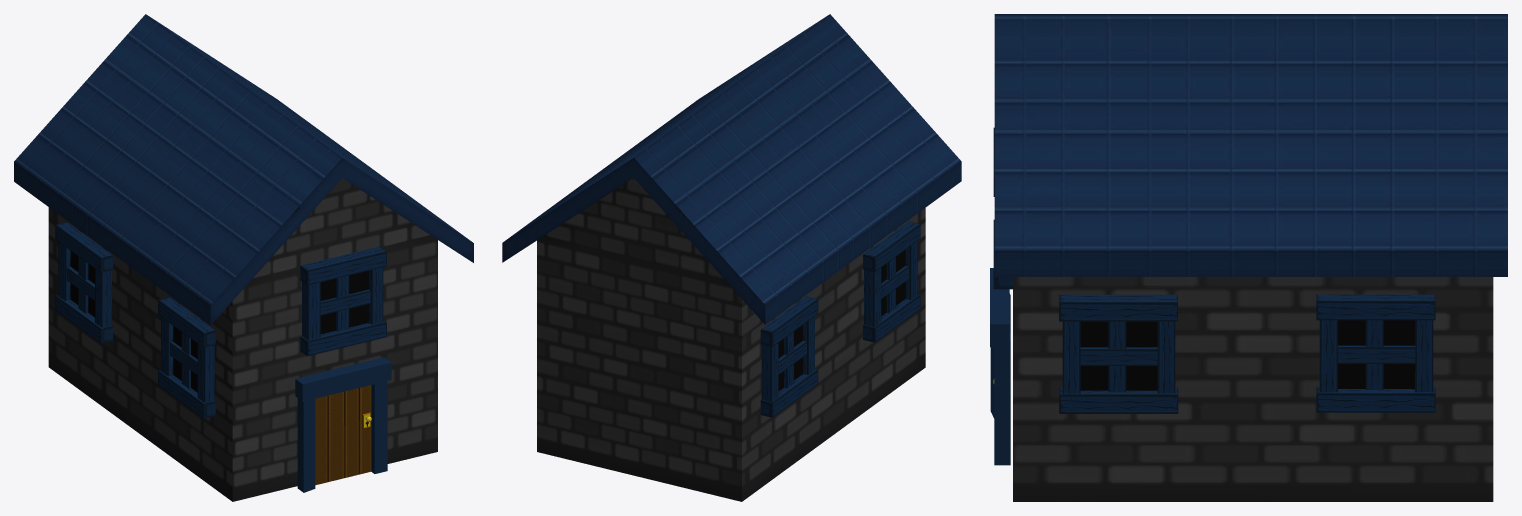
The model's file is Royal_town_house_2.fbx.
3 renders of one model, left to right at view 1: azimuth 30°, elevation 25°; view 2: azimuth 150°, elevation 25°; view 3: azimuth 270°, elevation 25°, orthographic. The views are drawn at different scales.
Parts seen in each view (by area): view 1: polySurface95; view 2: polySurface95; view 3: polySurface95.
Boxes of the visible parts, left/top/right/bottom form: polySurface95: left=14, top=14, right=473, bottom=501; polySurface95: left=502, top=14, right=961, bottom=501; polySurface95: left=990, top=14, right=1507, bottom=501.
Size of the model in its own units: 1.54 by 1.81 by 2.01.
